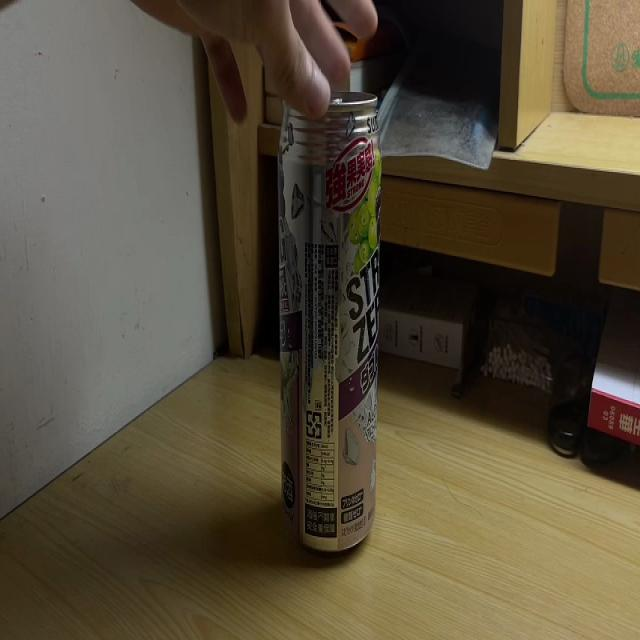Liquor: (277, 86, 377, 557)
